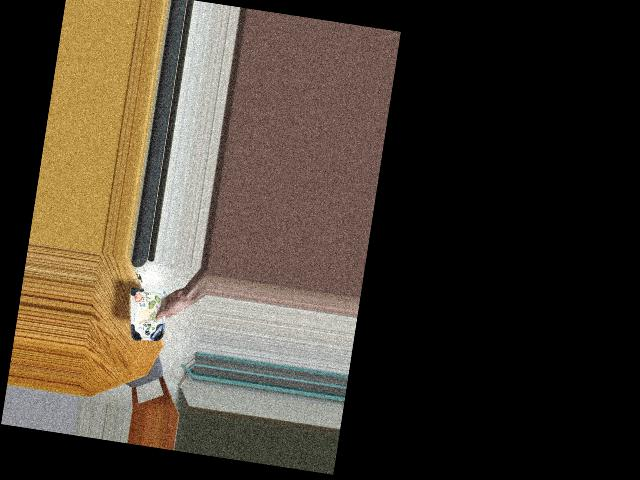cheese: (122, 285, 176, 343)
